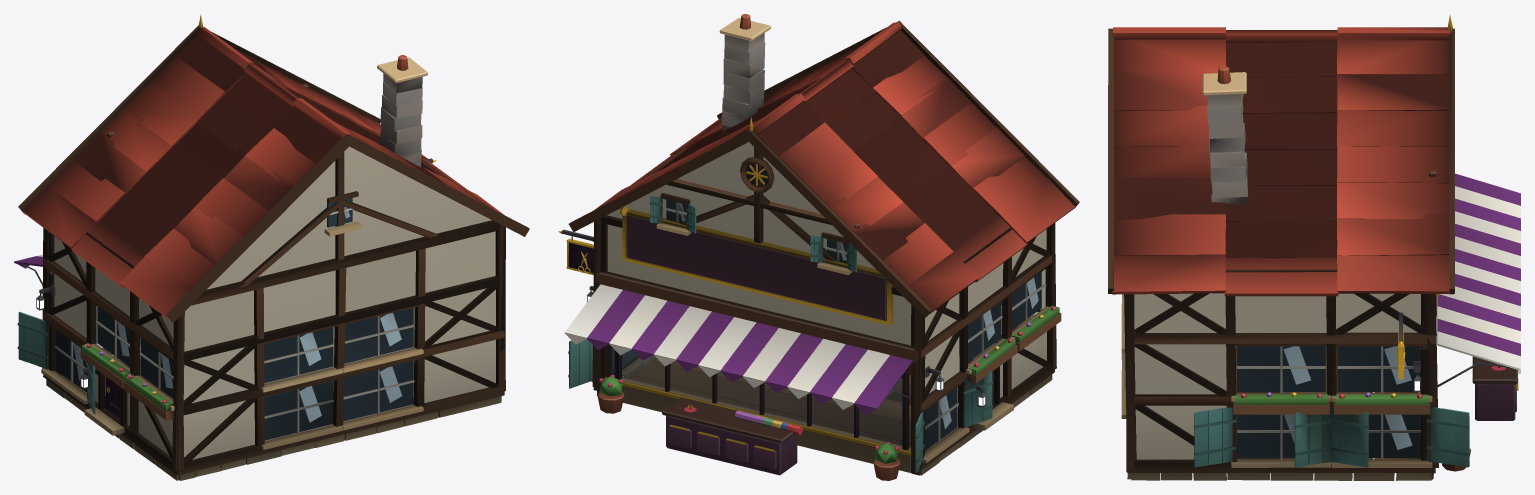
The model's file is HD_RagwortWardrobe.glb.
The picture shows the model from 3 angles, left to right: view 1: azimuth 30°, elevation 25°; view 2: azimuth 150°, elevation 25°; view 3: azimuth 270°, elevation 25°; orthographic projection. The views are drawn at different scales.
Visible parts, largest first — view 1: HD_RagwortWardrobe_2_SmoothPlastic, HD_RagwortWardrobe_4_Wood, HD_RagwortWardrobe_1_Sandstone, HD_RagwortWardrobe_5_Wood, HD_RagwortWardrobe_7_Cobblestone, HD_RagwortWardrobe_3_SmoothPlastic, HD_RagwortWardrobe_6_Metal; view 2: HD_RagwortWardrobe_2_SmoothPlastic, HD_RagwortWardrobe_4_Wood, HD_RagwortWardrobe_5_Wood, HD_RagwortWardrobe_8_Glass, HD_RagwortWardrobe_1_Sandstone, HD_RagwortWardrobe_6_Metal, HD_RagwortWardrobe_7_Cobblestone, HD_RagwortWardrobe_3_SmoothPlastic; view 3: HD_RagwortWardrobe_2_SmoothPlastic, HD_RagwortWardrobe_4_Wood, HD_RagwortWardrobe_1_Sandstone, HD_RagwortWardrobe_5_Wood, HD_RagwortWardrobe_7_Cobblestone, HD_RagwortWardrobe_6_Metal.
Boxes of the visible parts, x1,y1,x2,y2 form: HD_RagwortWardrobe_2_SmoothPlastic: (14,27,503,459); HD_RagwortWardrobe_4_Wood: (17,134,529,475); HD_RagwortWardrobe_1_Sandstone: (41,57,501,480); HD_RagwortWardrobe_5_Wood: (18,25,438,399); HD_RagwortWardrobe_7_Cobblestone: (379,73,422,167); HD_RagwortWardrobe_3_SmoothPlastic: (264,307,414,441); HD_RagwortWardrobe_6_Metal: (20,14,436,411); HD_RagwortWardrobe_2_SmoothPlastic: (564,14,1075,480); HD_RagwortWardrobe_4_Wood: (568,21,1079,475); HD_RagwortWardrobe_5_Wood: (568,130,1001,475); HD_RagwortWardrobe_8_Glass: (622,350,902,446); HD_RagwortWardrobe_1_Sandstone: (591,18,1052,475); HD_RagwortWardrobe_6_Metal: (558,117,993,455); HD_RagwortWardrobe_7_Cobblestone: (721,33,765,130); HD_RagwortWardrobe_3_SmoothPlastic: (597,305,1032,454); HD_RagwortWardrobe_2_SmoothPlastic: (1112,27,1520,459); HD_RagwortWardrobe_4_Wood: (1108,28,1469,479); HD_RagwortWardrobe_1_Sandstone: (1121,72,1432,480); HD_RagwortWardrobe_5_Wood: (1236,28,1517,459); HD_RagwortWardrobe_7_Cobblestone: (1207,94,1248,204); HD_RagwortWardrobe_6_Metal: (1396,14,1518,391).
Bounding box in the file's own units: 41.82 × 33.34 × 32.8.
